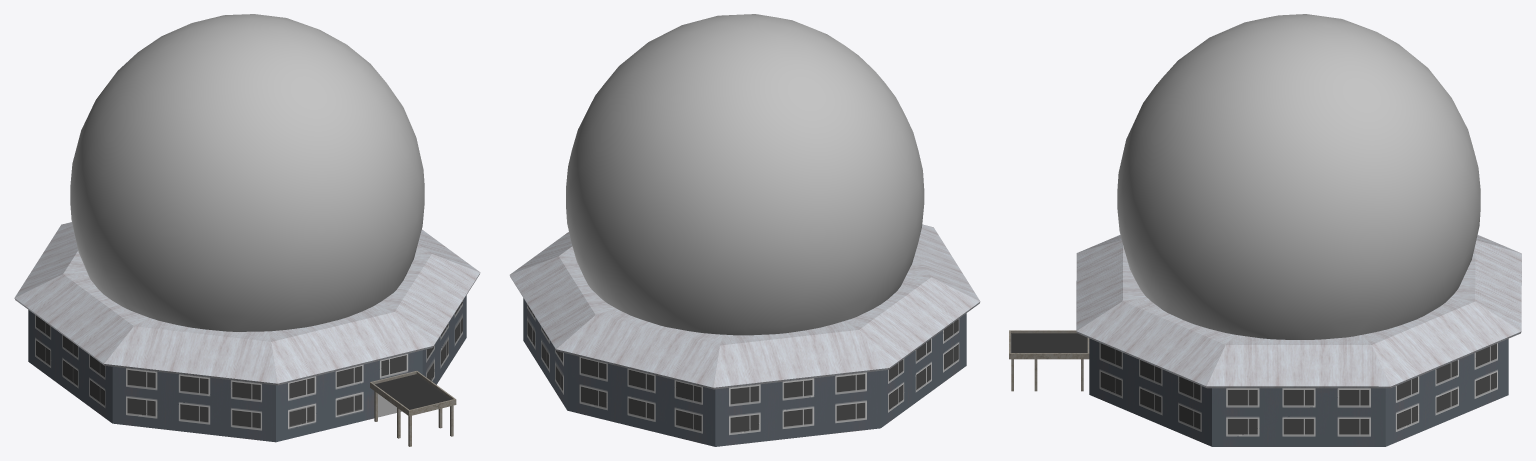
File: facility.glb
3 renders of one model, left to right at view 1: azimuth 30°, elevation 25°; view 2: azimuth 150°, elevation 25°; view 3: azimuth 270°, elevation 25°, orthographic. The views are drawn at different scales.
Parts seen in each view (by area): view 1: Facility; view 2: Facility; view 3: Facility.
Boxes of the visible parts, box(x1,y1,x2,y2) form: Facility: box(14, 14, 480, 446); Facility: box(509, 14, 980, 446); Facility: box(1009, 14, 1521, 446).
Size of the model in its own units: 33.5 by 27.19 by 38.55.
3 materials, 2 textured.
